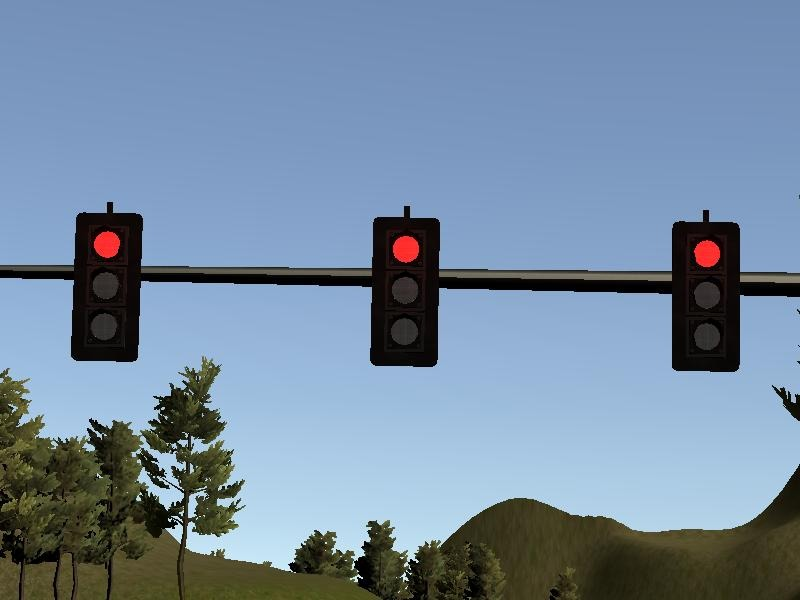red: (71, 212, 142, 363), (672, 221, 743, 372), (369, 215, 440, 366)
